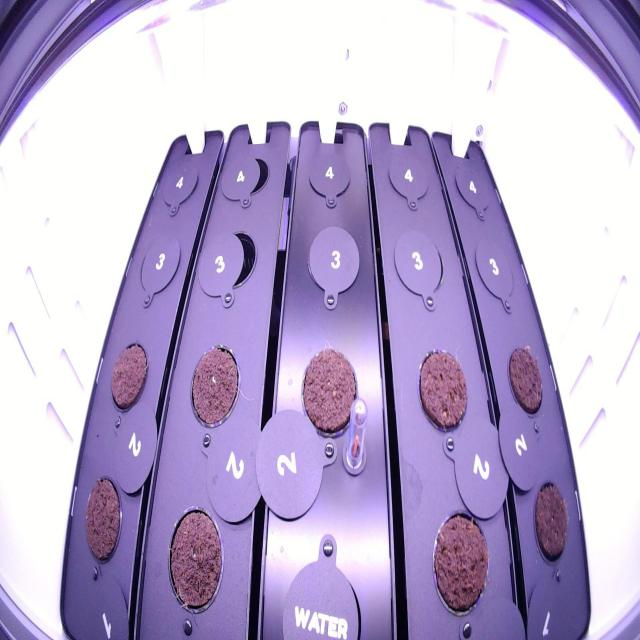empty_pod: (304, 219, 364, 310), (393, 226, 446, 314), (134, 227, 182, 312), (473, 234, 519, 315), (210, 222, 260, 294), (304, 146, 354, 210), (383, 146, 432, 210), (451, 160, 495, 222), (161, 158, 198, 212), (232, 152, 270, 202)
pod: (429, 502, 492, 624), (163, 502, 225, 616), (295, 342, 363, 444), (185, 338, 244, 438), (412, 339, 472, 437), (531, 472, 574, 580), (80, 472, 124, 572), (504, 337, 546, 422), (108, 336, 150, 418), (79, 470, 79, 476)
